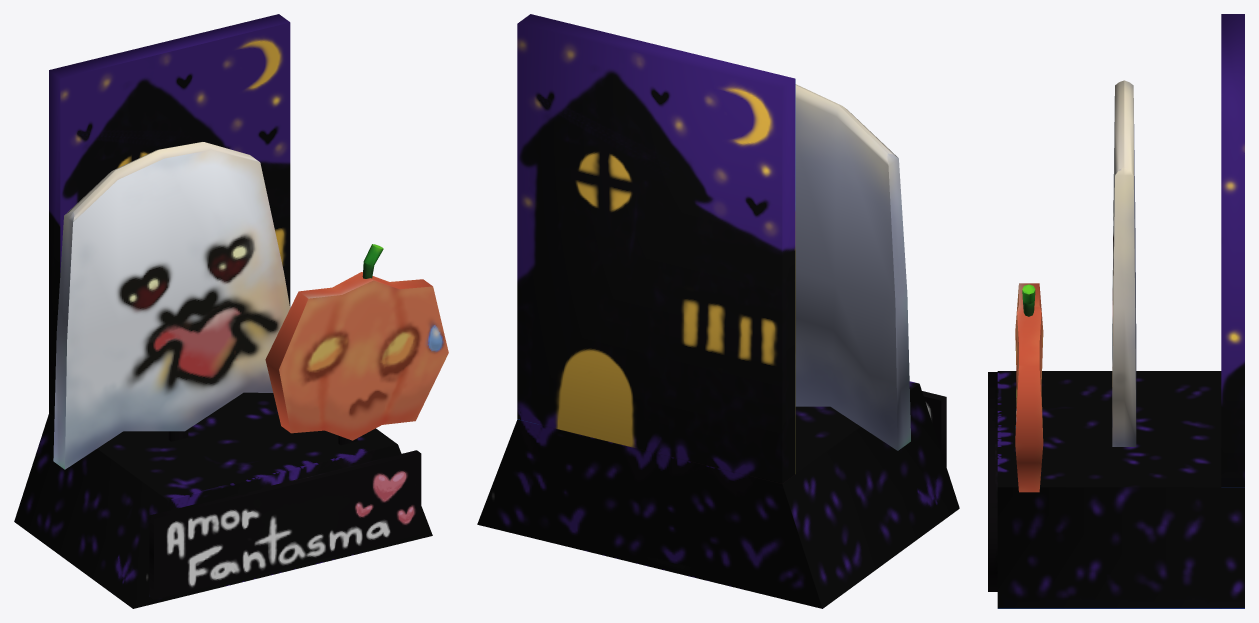
Rendered from BannerCinema.fbx.
3 views of the same model, side by side, from view 1: azimuth 30°, elevation 25°; view 2: azimuth 150°, elevation 25°; view 3: azimuth 270°, elevation 25° (orthographic). The views are drawn at different scales.
Visible parts, largest first — view 1: BannerCinema; view 2: BannerCinema; view 3: BannerCinema.
Boxes of the visible parts, bbox=[...] form: BannerCinema: bbox=[14, 14, 448, 608]; BannerCinema: bbox=[477, 14, 959, 608]; BannerCinema: bbox=[988, 14, 1244, 608].
Size of the model in its own units: 55.59 by 69.82 by 35.3.
